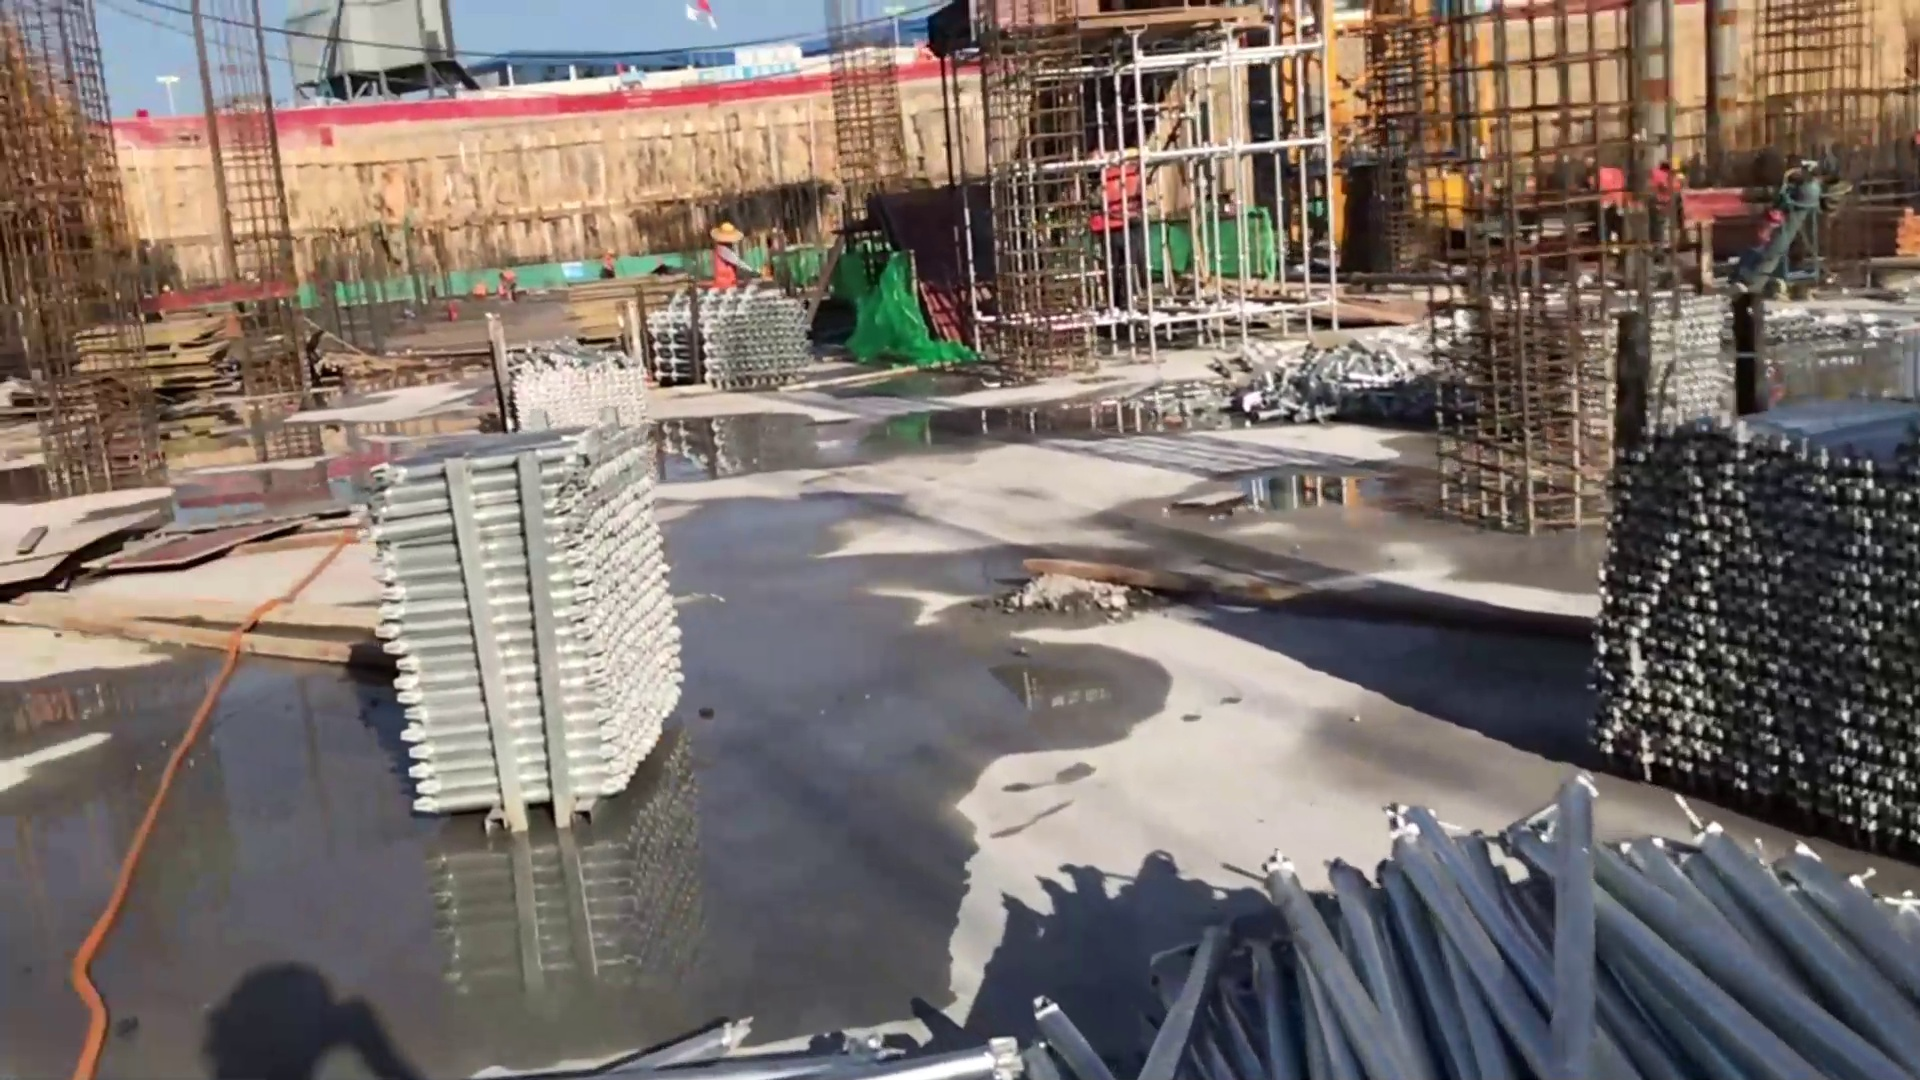board: (74, 319, 236, 387), (561, 276, 693, 343)
person: (693, 214, 750, 301)
scaffold: (505, 811, 1920, 1080), (1590, 404, 1920, 835), (371, 422, 692, 816), (703, 294, 801, 390), (509, 364, 651, 430)
vest: (712, 246, 739, 288)
